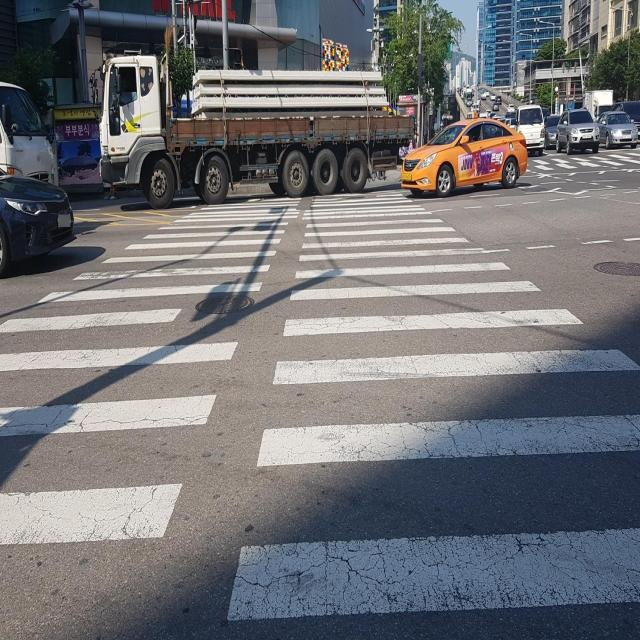횡단보도: (0, 191, 639, 630), (523, 152, 640, 170)
